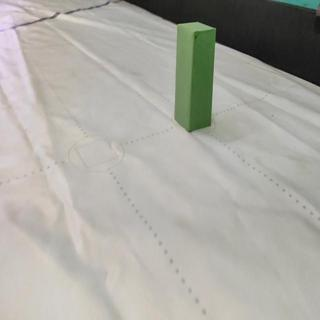greenbox: (173, 19, 218, 133)
